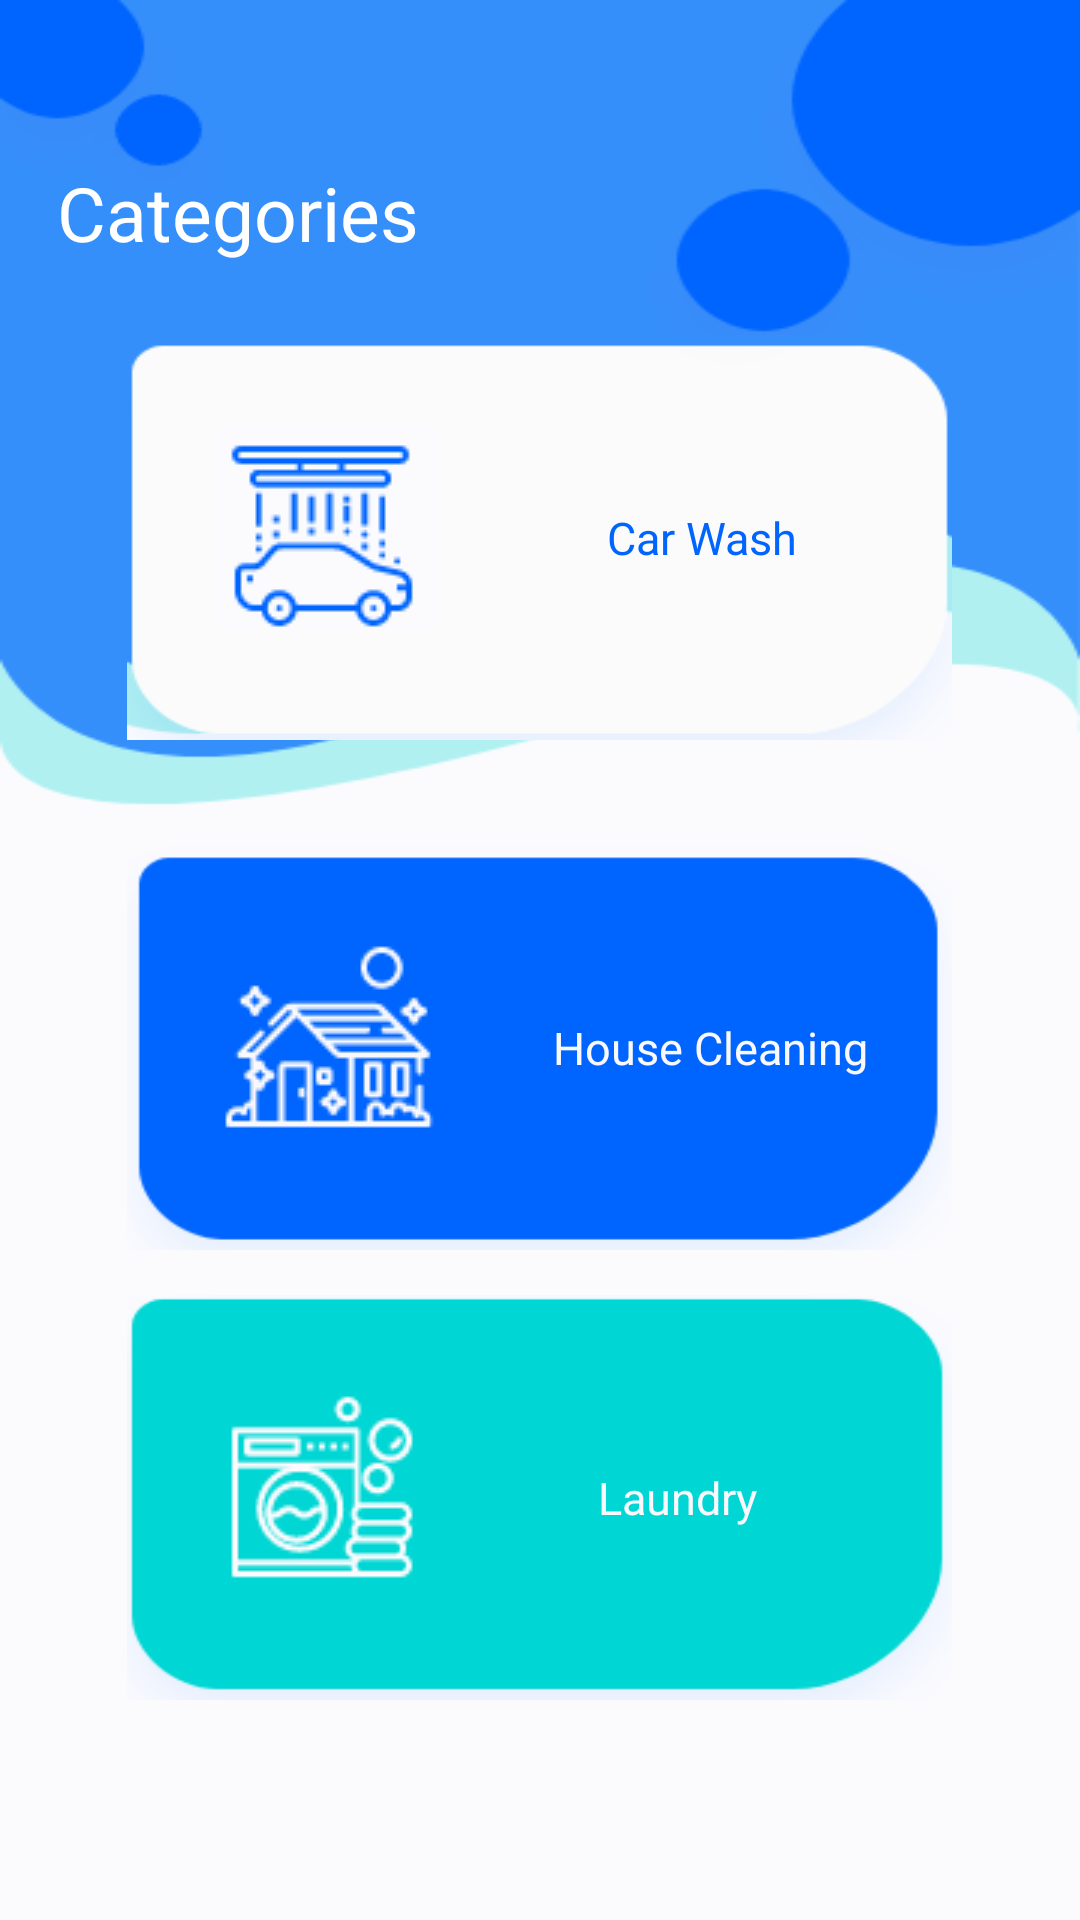

Named icons in this screenshot (1080px×1920px) and their centers, (x=x, y=y):
car department: (x=322, y=536)
